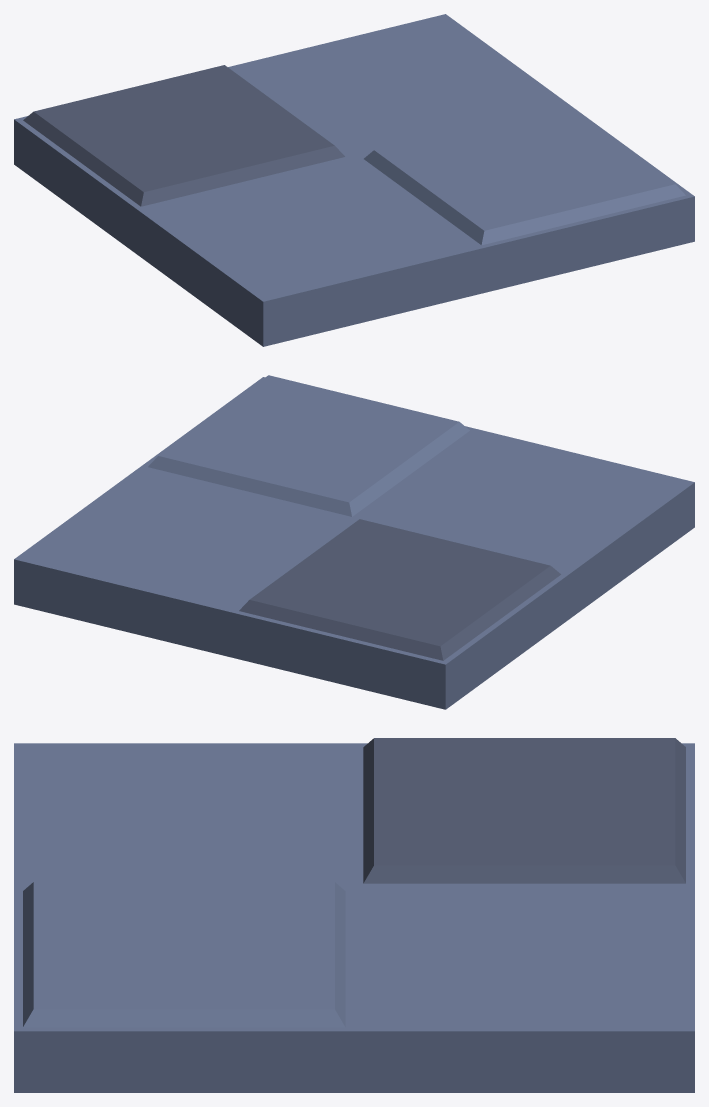
File: floor_005.glb
3 views of the same model, one above another, from view 1: azimuth 30°, elevation 25°; view 2: azimuth 150°, elevation 25°; view 3: azimuth 270°, elevation 25° (orthographic). The views are drawn at different scales.
Parts seen in each view (by area): view 1: floor.005; view 2: floor.005; view 3: floor.005.
Boxes of the visible parts, x1,y1,x2,y2 form: floor.005: [14, 14, 694, 346]; floor.005: [14, 375, 694, 709]; floor.005: [14, 738, 694, 1092].
Size of the model in its own units: 2 by 0.2444 by 2.
